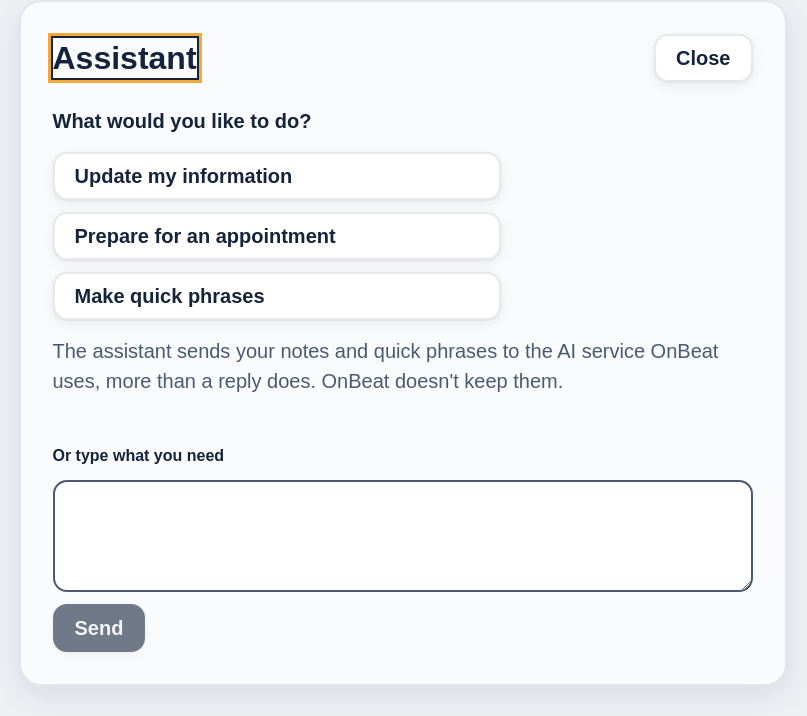
Test: AssistantScreen › gives the delete confirmation a heading
The width and height of the screenshot is (807, 716).
Type "Moved." into the text box labelled "Or type what you need".
click(402, 536); type("Moved.")  # box [52, 480, 752, 592]
Then press Enter
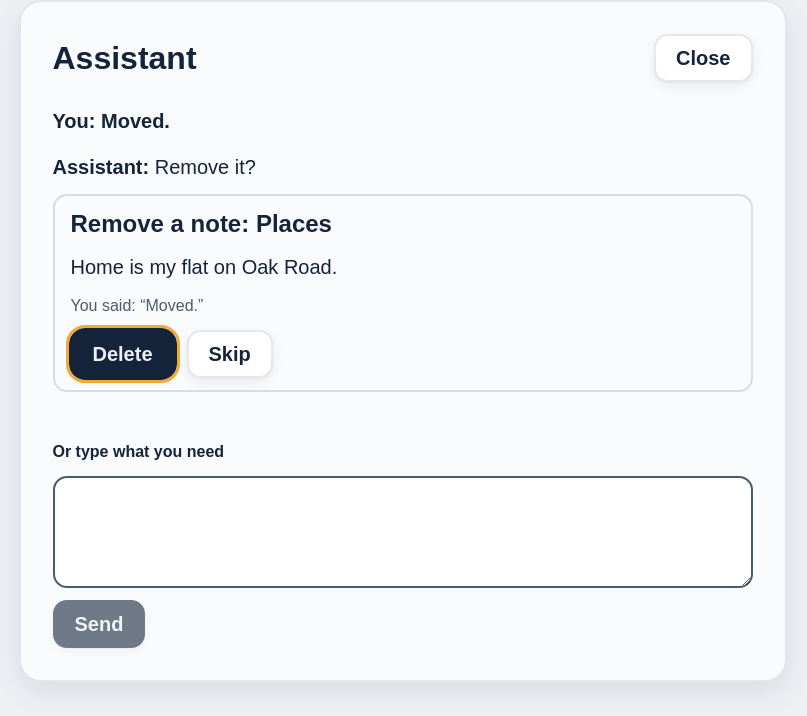
Click the button with aria-label "Delete: Home is my flat on Oak Road.".
click(122, 354)  # box [70, 330, 174, 378]
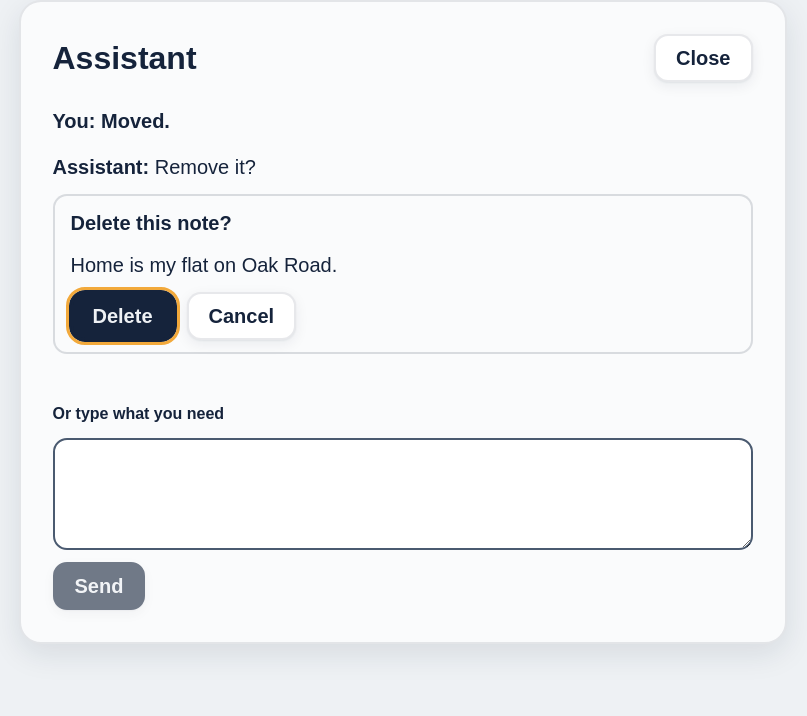
Expected: the heading "Delete this note?" is shown, [70, 212, 232, 234]
